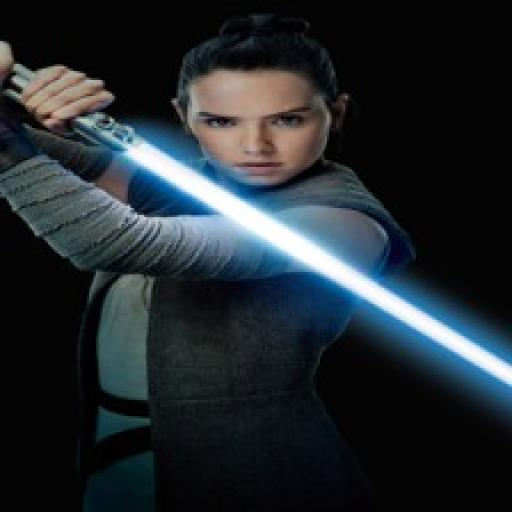human: (0, 13, 416, 512)
lightsaber: (0, 53, 512, 399)
